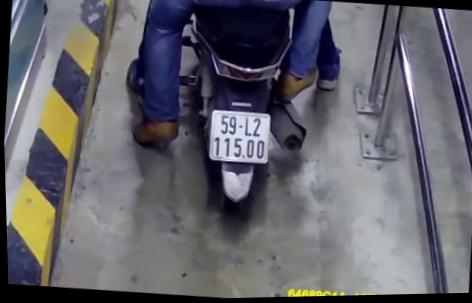LP: (205, 106, 271, 166)
